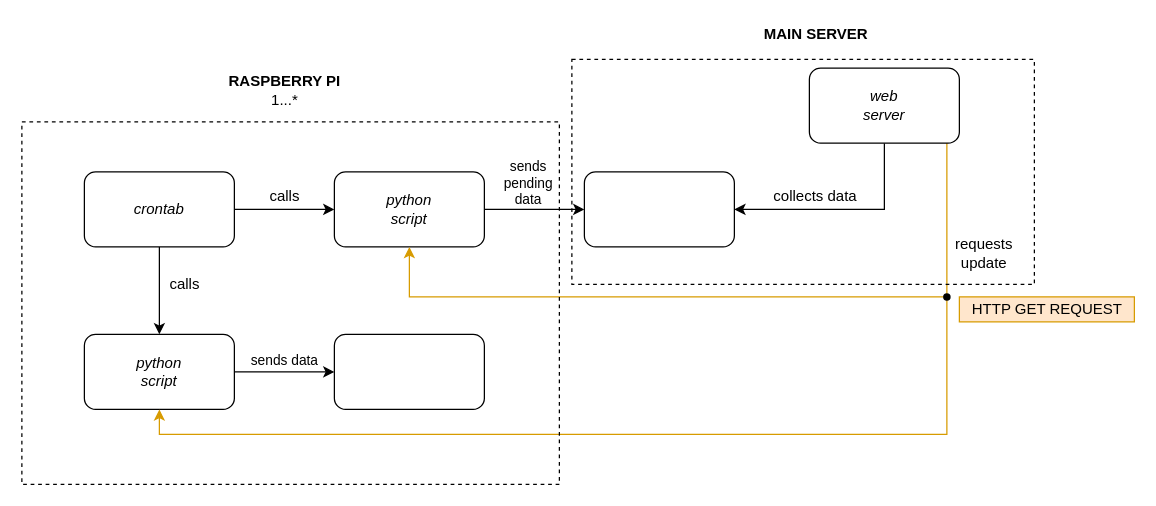
The diagram is 1156 pixels wide and 506 high, and some of its shapes have lost their labels. Here are the shapes that lost their labels. From the top down, the centre of each, then its label:
At (658,209): "main database".
At (408,371): "local database".
